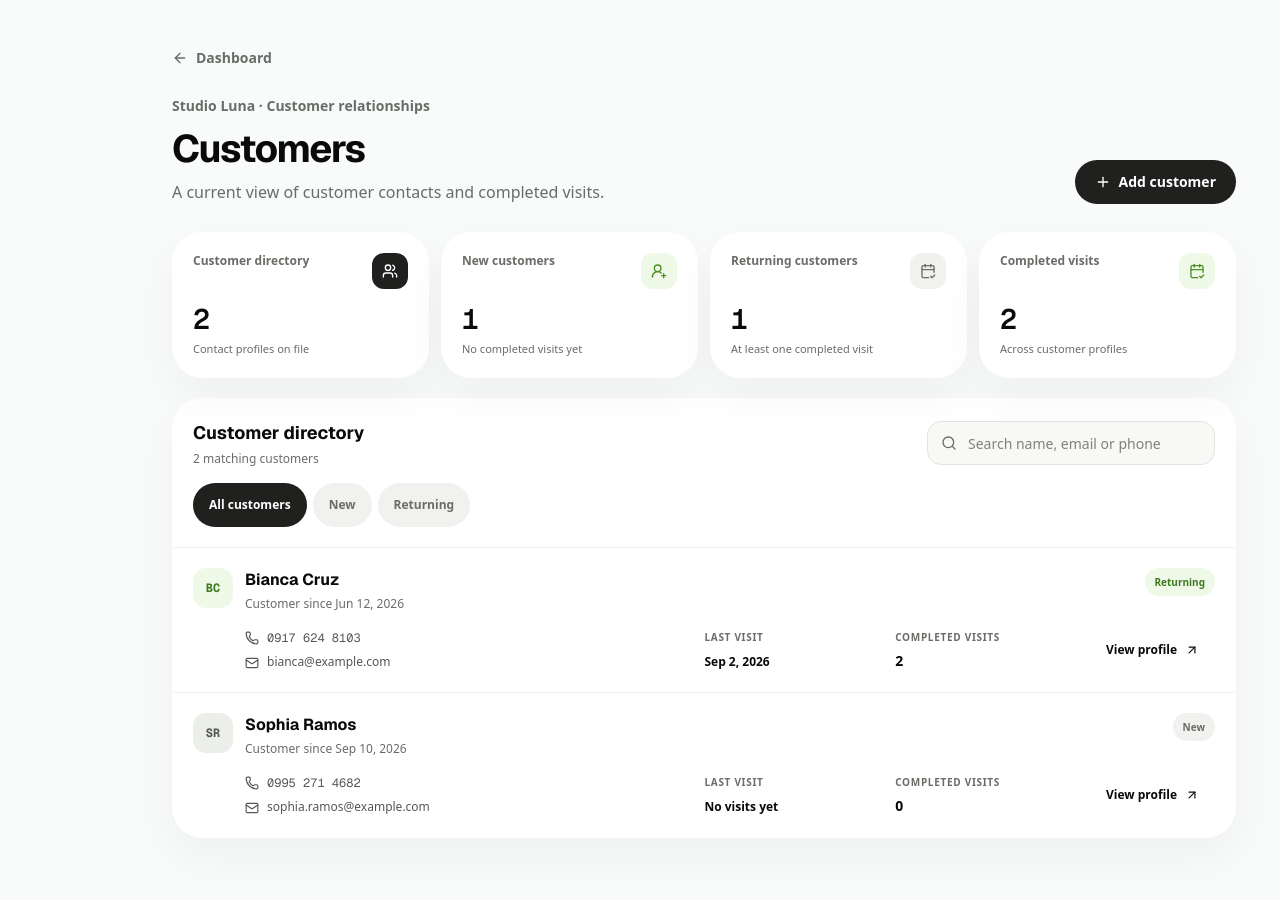
it: Customers preview › opens lazy read-only customer history and handles customers without visits
What coordinates should you click on to do the following:
click the button with aria-label "View profile for Sophia Ramos"
I would click on:
 (1152, 795)
Its box is [1090,773,1215,817].
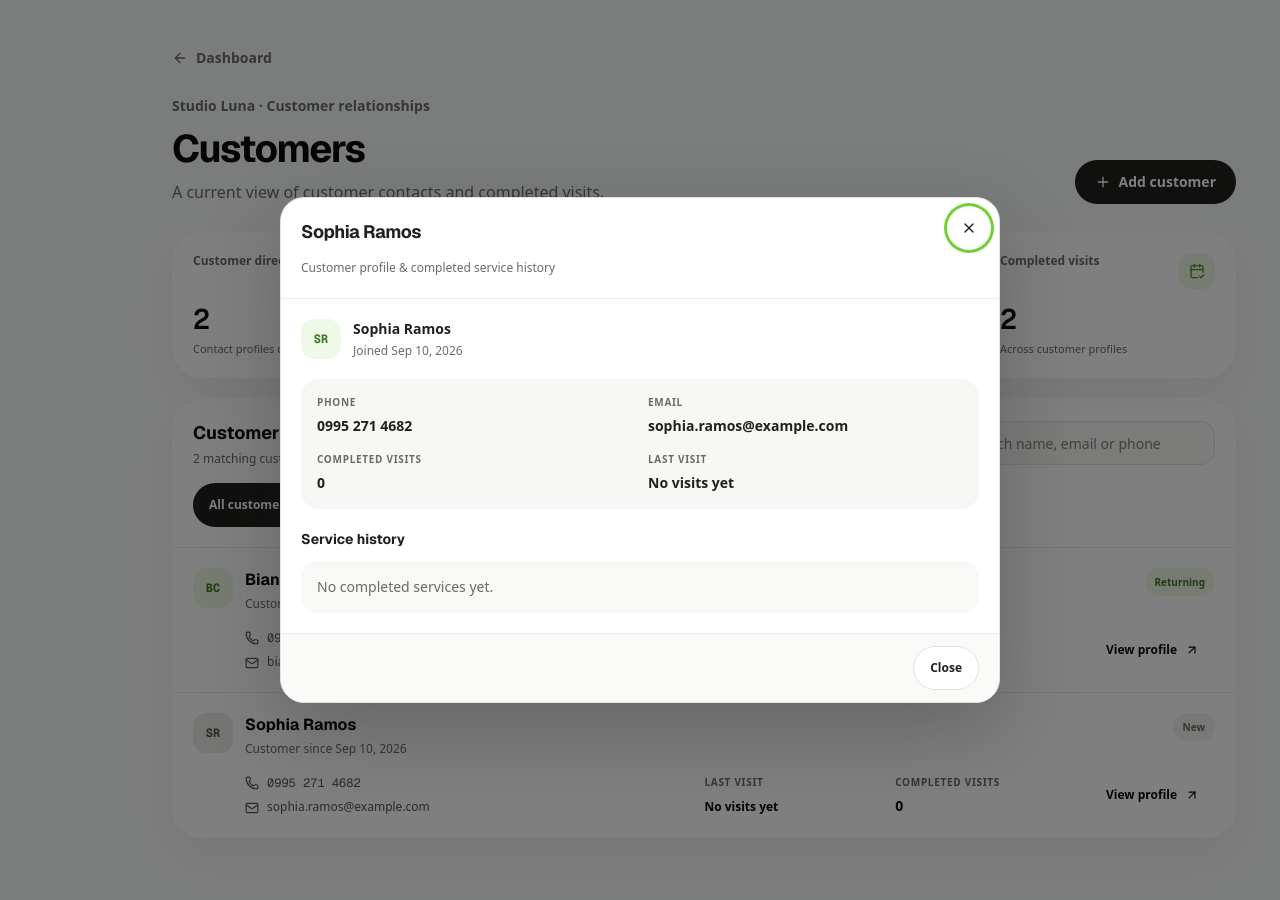
Expected: the text "No completed services yet." is shown, [301,561,979,613]
Expected: the text "sophia.ramos@example.com" is shown, [648,416,848,435]
What coordinates should you click on to do the following:
click the button "Close"
I would click on:
 (946, 668)
Its box is [913,646,979,690].
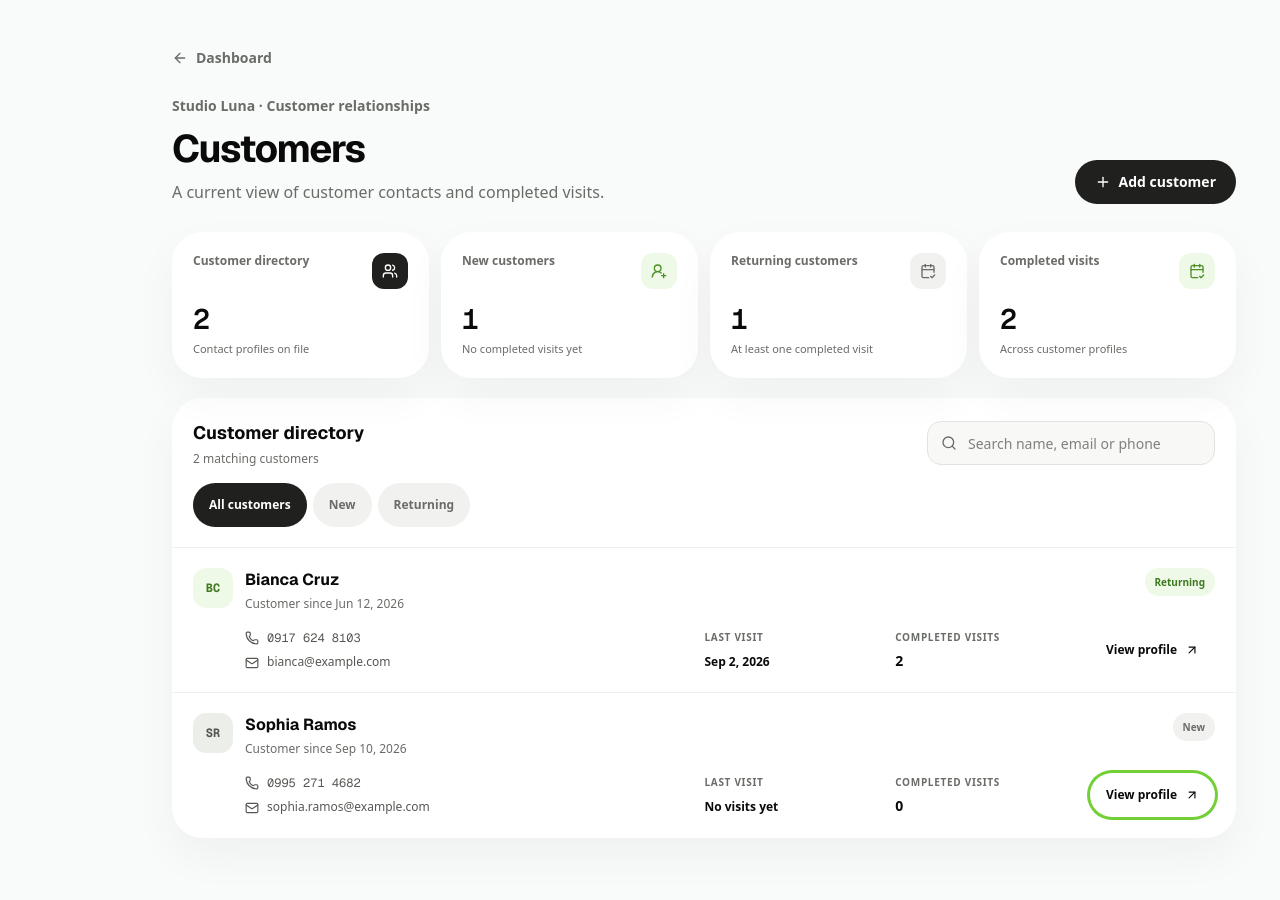
Expected: the dialog is gone
